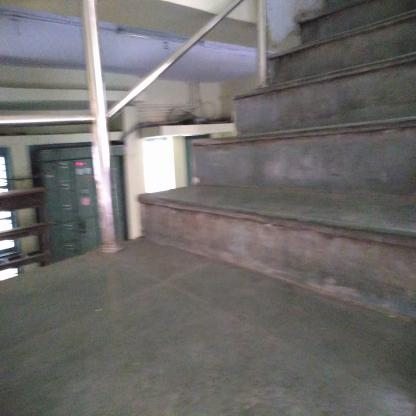stairs: (270, 51, 416, 331)
